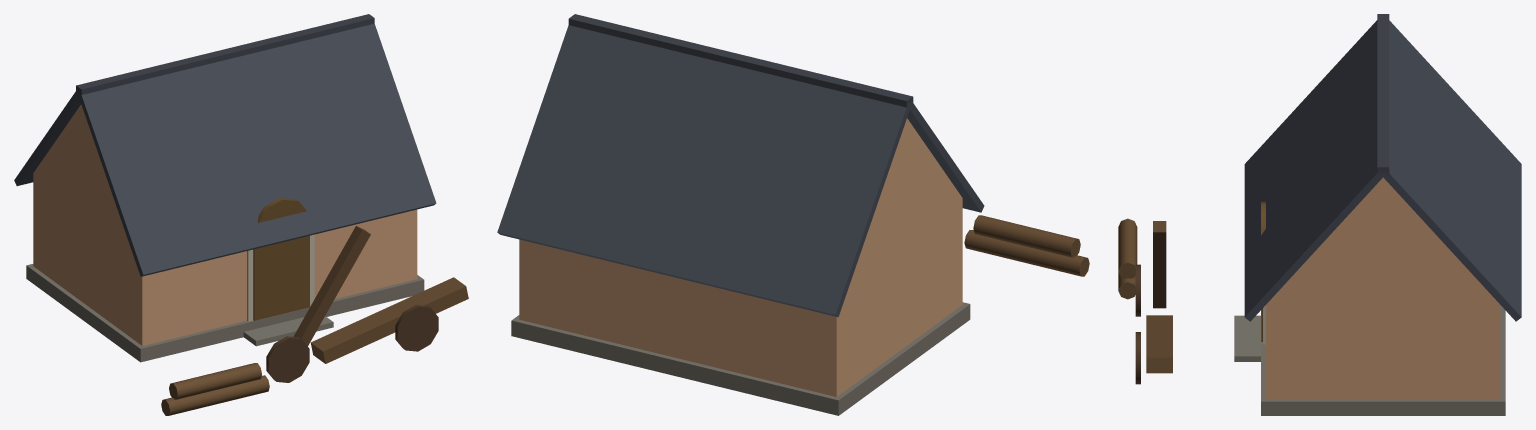
The model's file is procedural_siegeworkshop@4.glb.
The picture shows the model from 3 angles, left to right: view 1: azimuth 30°, elevation 25°; view 2: azimuth 150°, elevation 25°; view 3: azimuth 270°, elevation 25°; orthographic projection. The views are drawn at different scales.
Parts seen in each view (by area): view 1: part_0; view 2: part_0; view 3: part_0.
Boxes of the visible parts, <box> form: part_0: <box>14,14,468,415</box>; part_0: <box>497,14,1089,415</box>; part_0: <box>1118,14,1521,415</box>.
Bounding box in the file's own units: 7.57 × 5.21 × 7.58.
